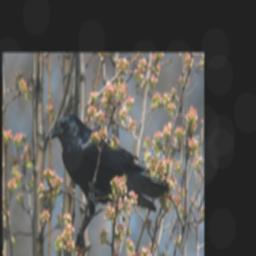Crow: (45, 110, 167, 246)
